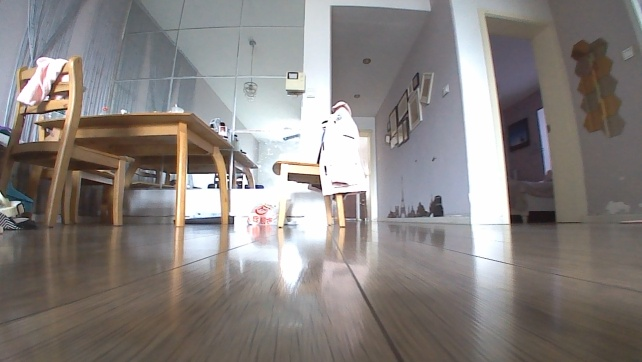dining_table: (0, 55, 259, 228)
